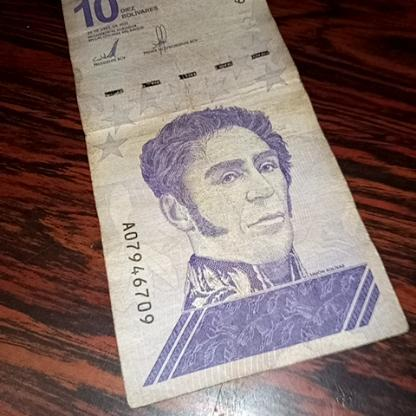ten-front-vef: (51, 0, 416, 408)
